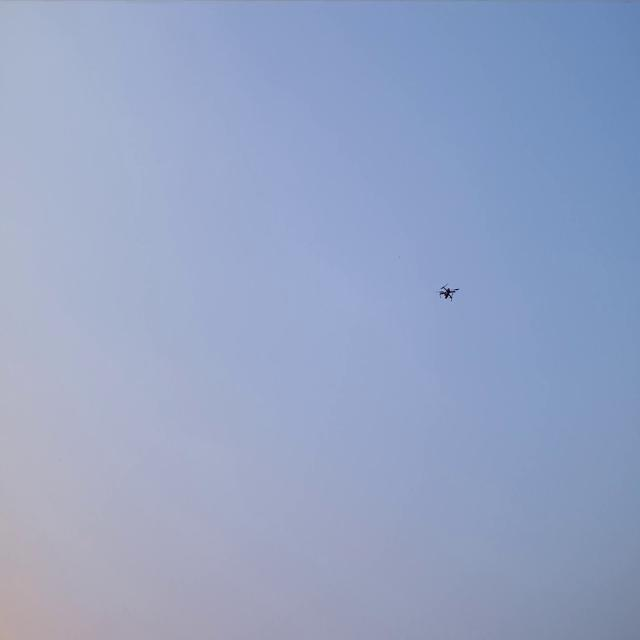UAV: (434, 282, 460, 304)
